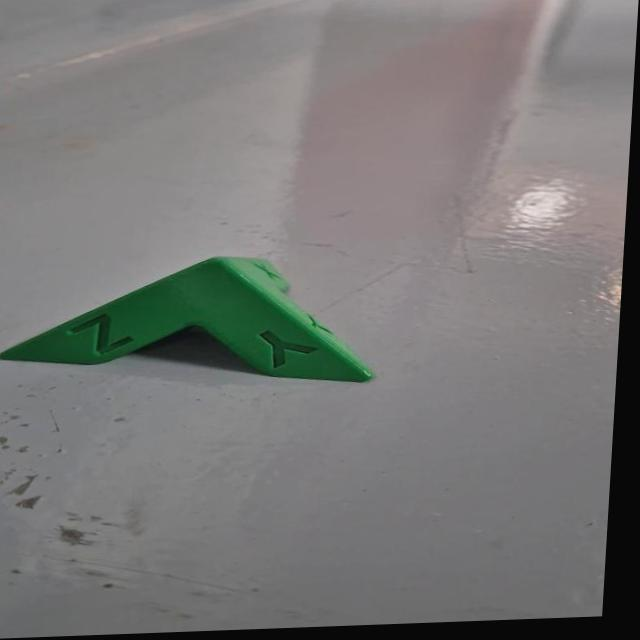eje: (0, 244, 392, 404)
